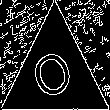O_SE: (27, 40, 83, 107)
